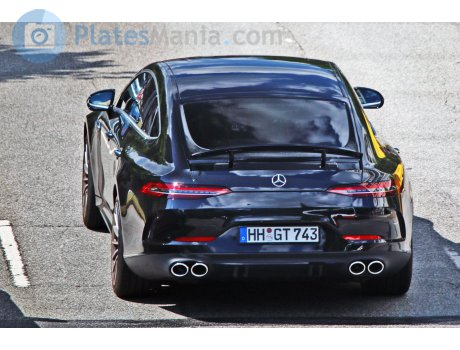License Plates: (248, 227, 317, 239)
